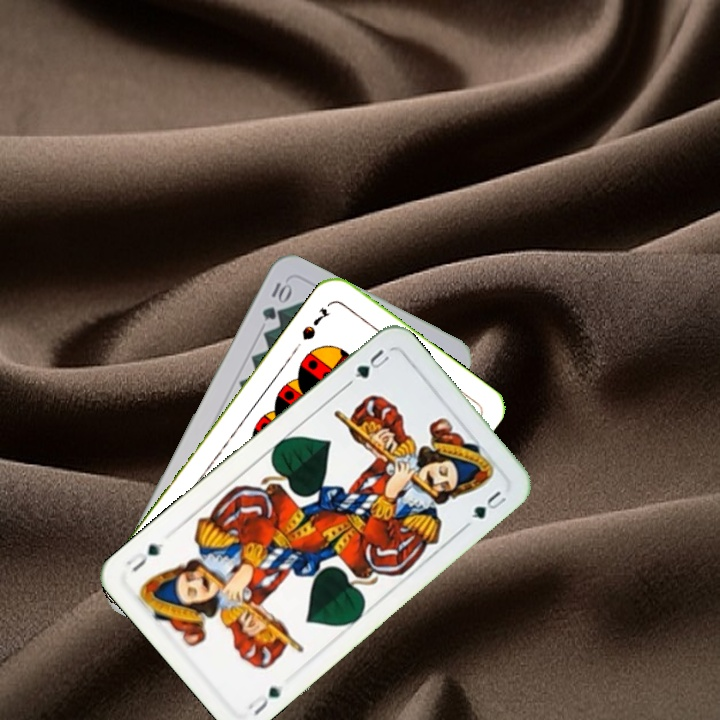G10: (258, 278, 294, 323)
GU: (343, 345, 392, 388), (243, 681, 286, 719)
S7: (297, 303, 332, 343)
